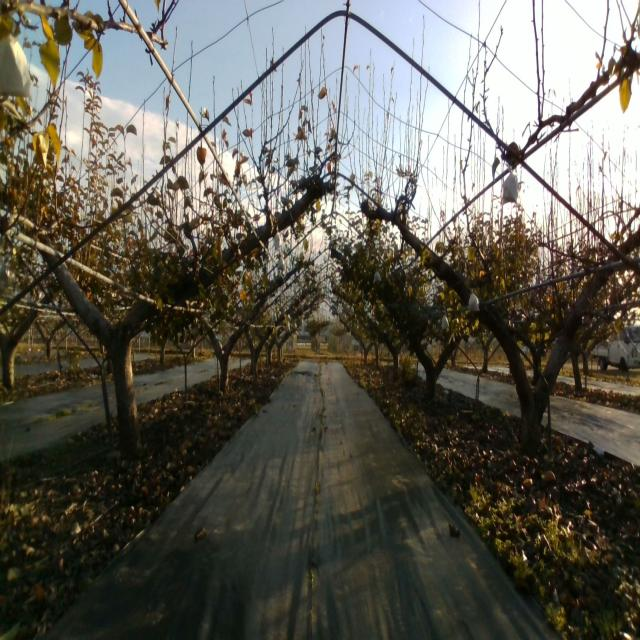pearbags: (0, 33, 32, 98), (500, 166, 519, 205), (468, 289, 480, 315)
